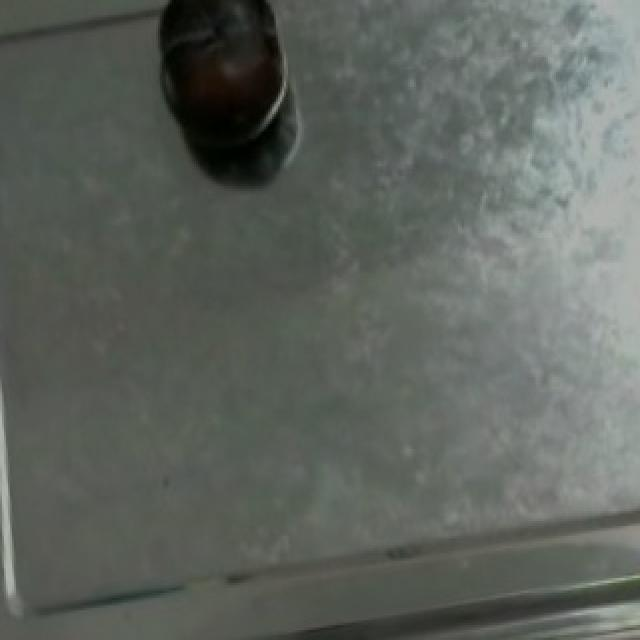Fruit: (150, 0, 294, 164)
